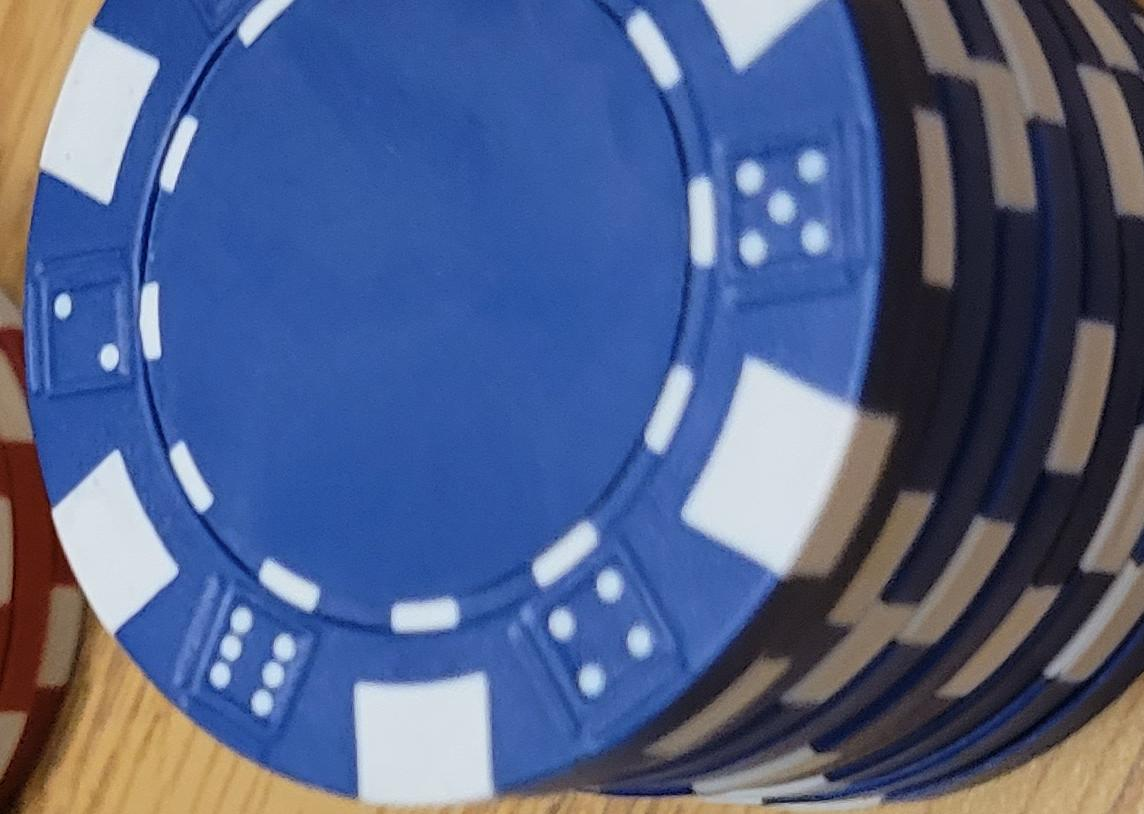Chip: (1, 227, 387, 814)
